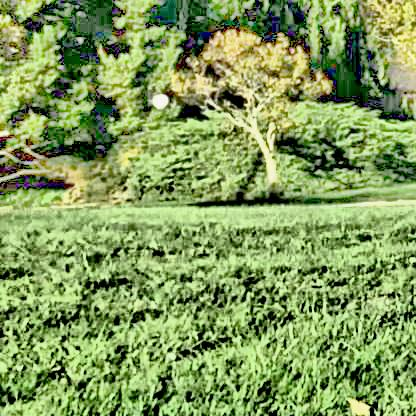golfball: (149, 90, 166, 107)
